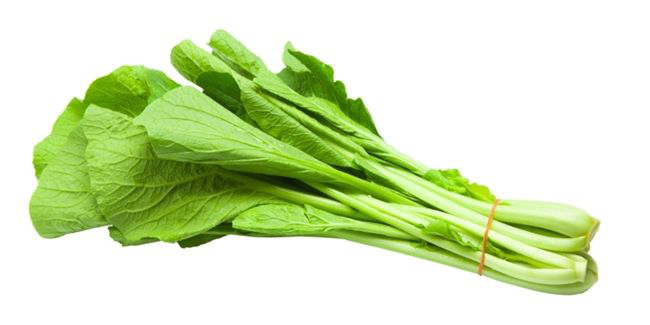Sawi: (13, 29, 632, 312)
